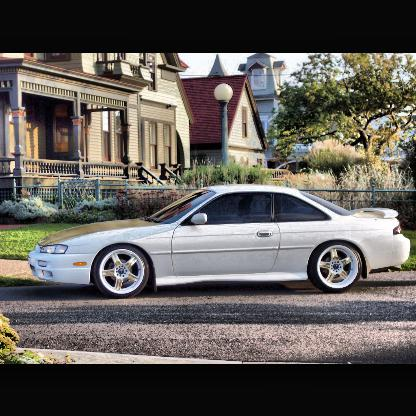Nissan 240SX Coupe 1998: (27, 185, 411, 300)
